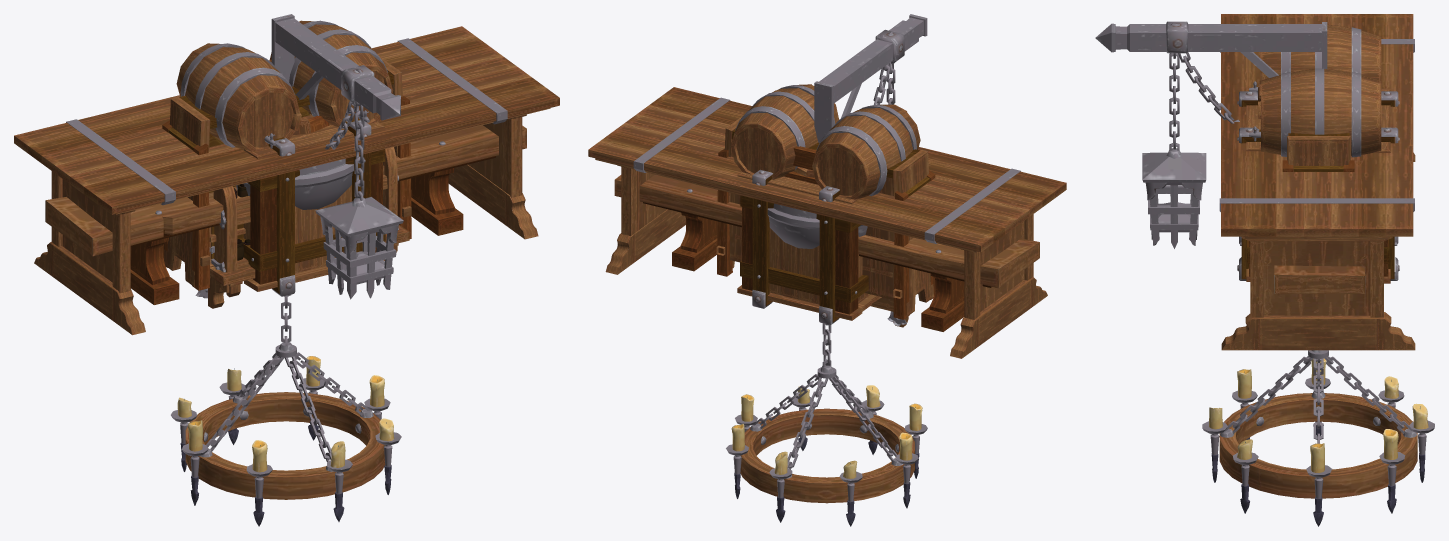
Rendered from props.glb.
The picture shows the model from 3 angles, left to right: view 1: azimuth 30°, elevation 25°; view 2: azimuth 150°, elevation 25°; view 3: azimuth 270°, elevation 25°; orthographic projection. The views are drawn at different scales.
Parts seen in each view (by area): view 1: Table_Large, Chandelier, Barrel_Holder, Bench, Lantern_Wall, Crate_Wooden, Cabinet, Shelf_Small_Bottles, Cauldron, Shelf_Simple; view 2: Table_Large, Barrel_Holder, Chandelier, Crate_Wooden, Bench, Lantern_Wall, Cabinet, Cauldron, Chair_1; view 3: Table_Large, Chandelier, Barrel_Holder, Lantern_Wall, Crate_Wooden, Bench, Cabinet.
Boxes of the visible parts, x1,y1,x2,y2 form: Table_Large: [14, 26, 559, 335]; Chandelier: [171, 294, 401, 526]; Barrel_Holder: [162, 20, 411, 290]; Bench: [45, 125, 526, 304]; Lantern_Wall: [271, 14, 403, 299]; Crate_Wooden: [237, 119, 385, 296]; Cabinet: [164, 55, 402, 286]; Shelf_Small_Bottles: [210, 147, 398, 292]; Cauldron: [236, 158, 353, 209]; Shelf_Simple: [208, 225, 409, 308]; Table_Large: [588, 87, 1066, 358]; Barrel_Holder: [716, 84, 935, 319]; Chandelier: [726, 323, 927, 526]; Crate_Wooden: [737, 169, 881, 324]; Bench: [614, 174, 1039, 331]; Lantern_Wall: [814, 14, 927, 142]; Cabinet: [724, 115, 933, 316]; Cauldron: [767, 203, 867, 248]; Chair_1: [784, 146, 817, 184]; Table_Large: [1219, 14, 1415, 350]; Chandelier: [1202, 350, 1434, 526]; Barrel_Holder: [1249, 24, 1381, 171]; Lantern_Wall: [1095, 21, 1327, 248]; Crate_Wooden: [1237, 88, 1399, 283]; Bench: [1274, 265, 1365, 293]; Cabinet: [1287, 133, 1350, 169].
Bounding box in the file's own units: 2.85 × 2.84 × 1.9.
Materials: 3 (3 with a texture image).
